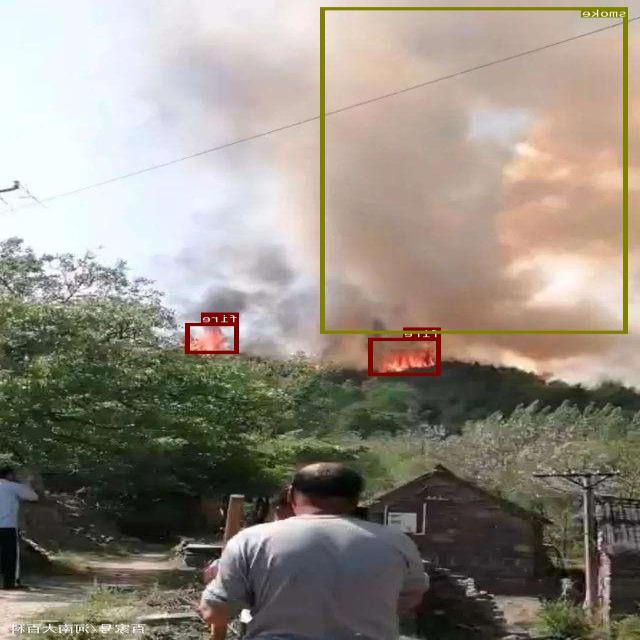fire: (369, 338, 442, 375), (187, 322, 239, 353)
smoke: (321, 7, 629, 333)
